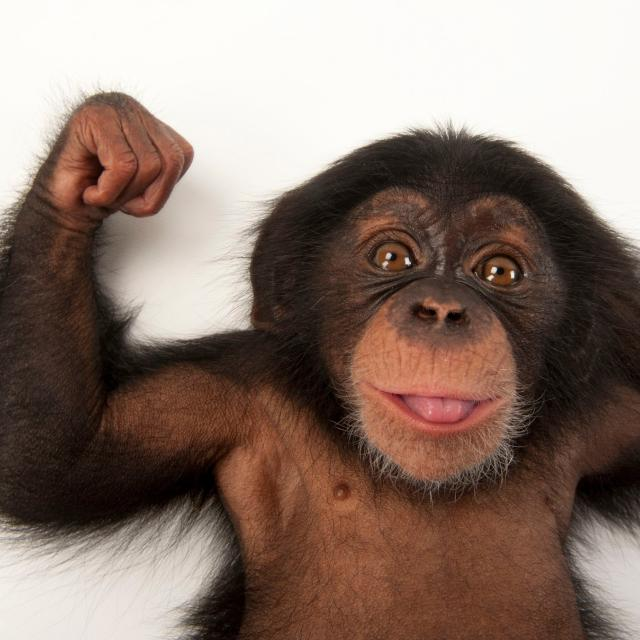chimpanzee: (0, 93, 640, 640)
